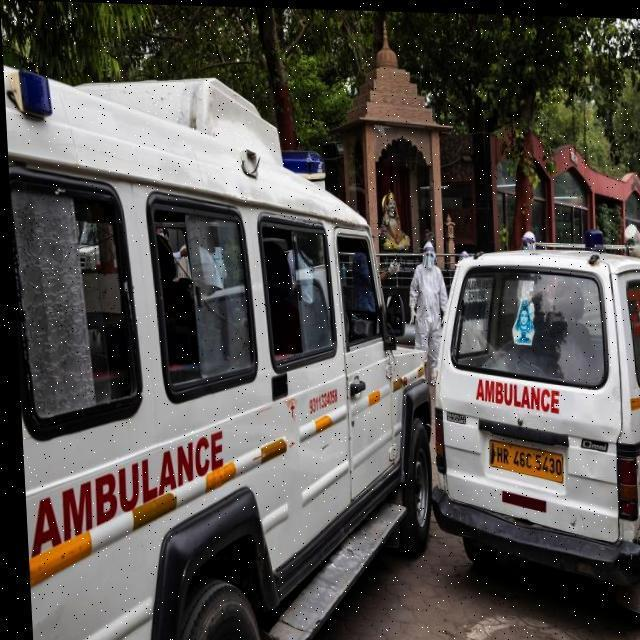Ambulance: (3, 64, 440, 640), (414, 235, 640, 626), (294, 486, 640, 640), (370, 185, 410, 252)
